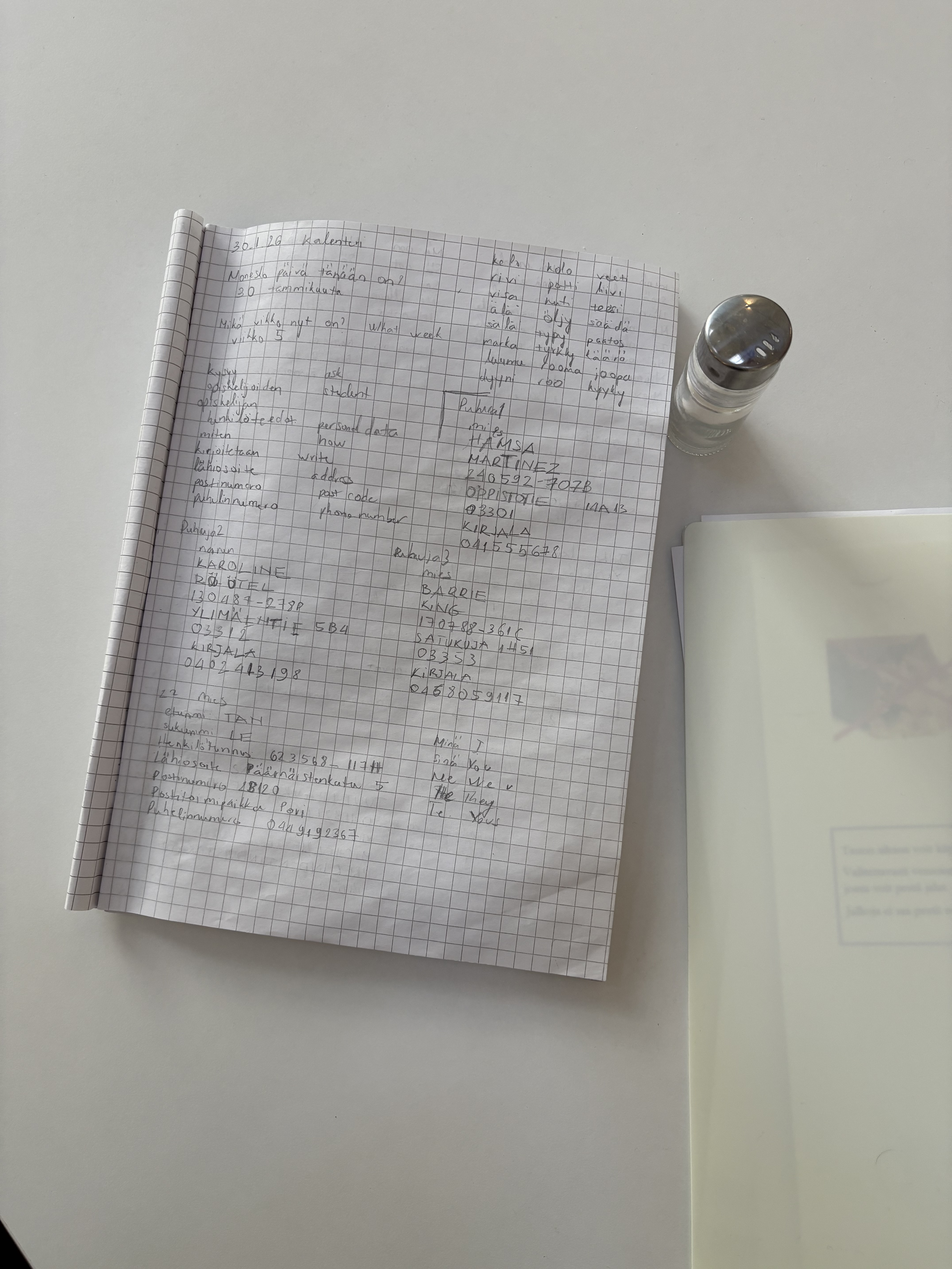paper: (58, 204, 686, 982)
